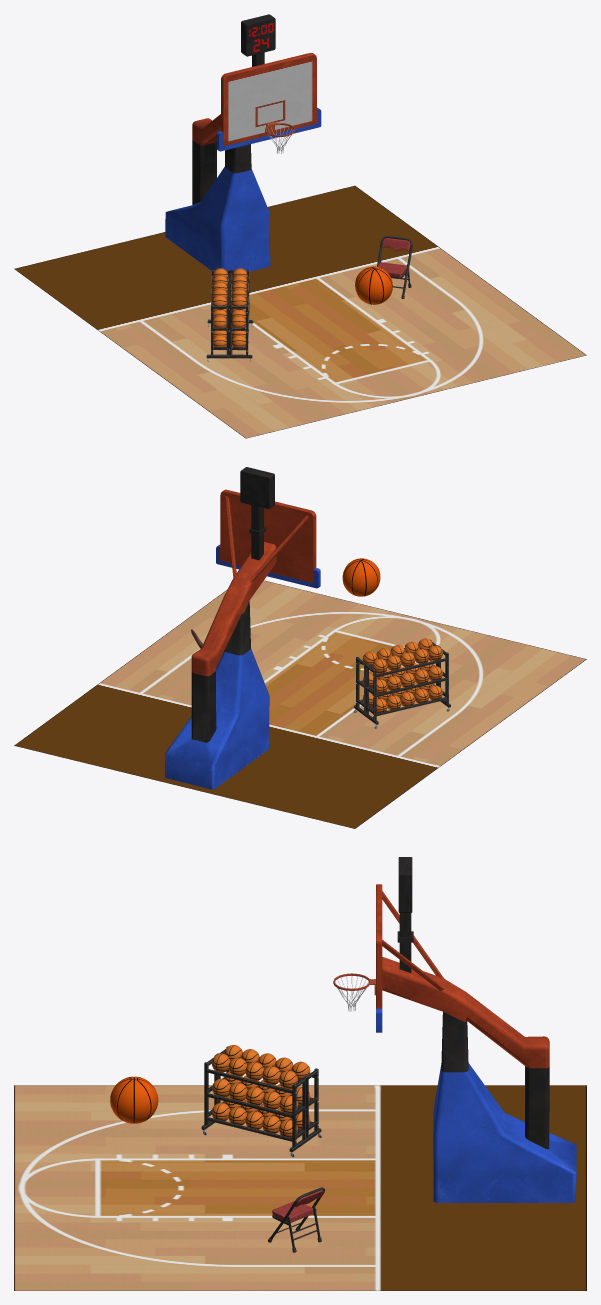
Rendered from basketball.glb.
3 renders of one model, top to bottom at view 1: azimuth 30°, elevation 25°; view 2: azimuth 150°, elevation 25°; view 3: azimuth 270°, elevation 25°, orthographic. The views are drawn at different scales.
Visible parts, largest first — view 1: Cancha, Aro, Carrito2, Sphere_0, Silla; view 2: Cancha, Aro, Carrito2, Sphere_0; view 3: Cancha, Aro, Carrito2, Sphere_0, Silla.
Boxes of the visible parts, x1,y1,x2,y2 form: Cancha: (14, 185, 586, 438); Aro: (165, 14, 321, 271); Carrito2: (206, 268, 253, 361); Sphere_0: (355, 266, 392, 304); Silla: (377, 236, 412, 298); Cancha: (14, 580, 586, 828); Aro: (165, 467, 320, 789); Carrito2: (353, 638, 450, 728); Sphere_0: (342, 558, 380, 596); Cancha: (14, 1085, 586, 1290); Aro: (333, 857, 576, 1202); Carrito2: (201, 1045, 321, 1157); Sphere_0: (110, 1076, 158, 1123); Silla: (268, 1187, 324, 1252).
Bounding box in the file's own units: 13.48 × 9.88 × 15.86.
6 materials, 4 textured.
